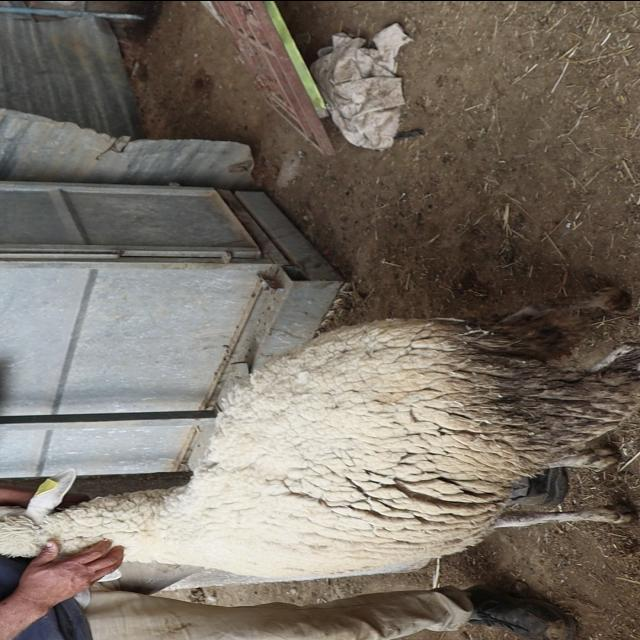Score_4: (0, 288, 639, 578)
